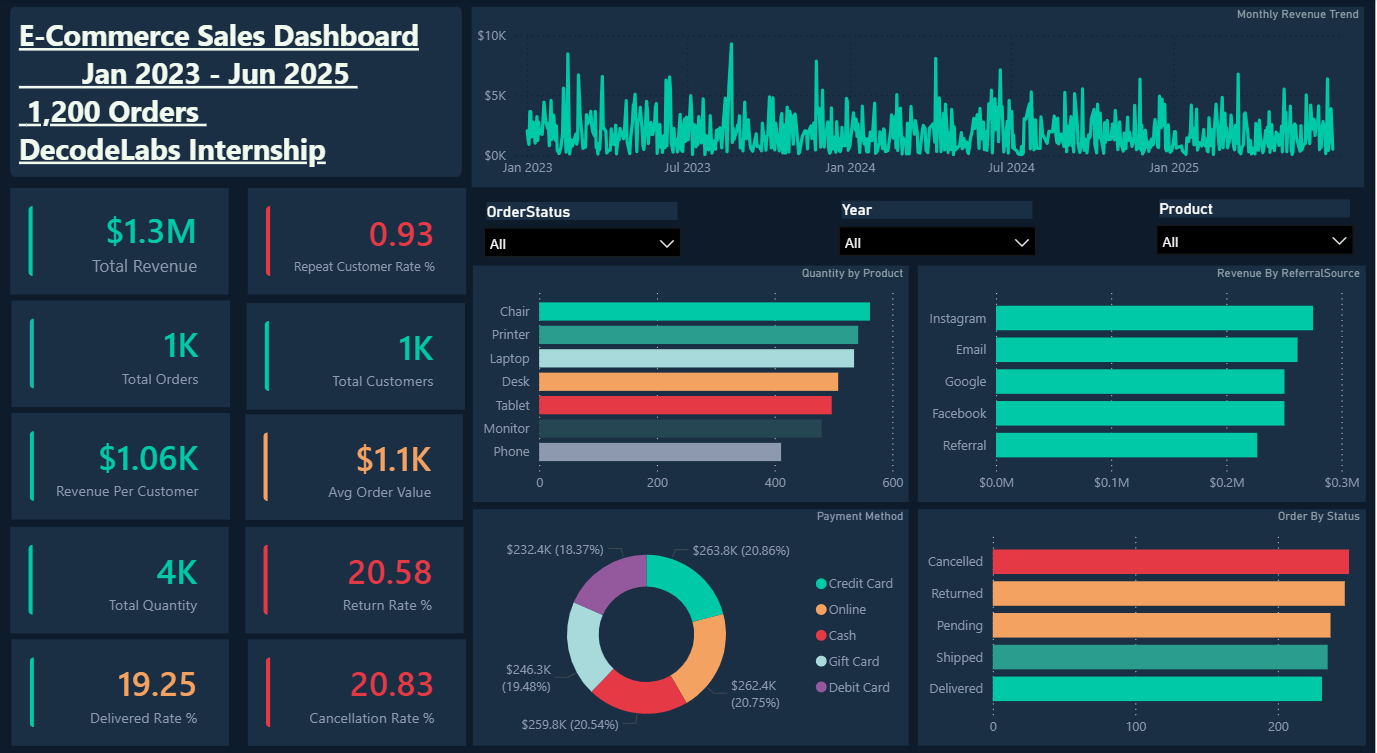

The page's visual inventory and layout, read from the dashboard file:
{"tool":"powerbi","page":{"name":"Dashboard","canvas":[1280,720],"ordinal":0},"visuals":[{"type":"cardVisual","fields":{"Data":["_Measure.Total Revenue"]},"box":[10.9,176.7,203.4,99.3],"z":0},{"type":"cardVisual","fields":{"Data":["_Measure.Total Orders"]},"box":[12.1,280.8,203.4,99.3],"z":1000},{"type":"cardVisual","fields":{"Data":["_Measure.Avg Order Value"]},"box":[228.8,387.4,202.2,98.1],"z":2000},{"type":"cardVisual","fields":{"Data":["_Measure.Total Customers"]},"box":[230,283.3,203.4,99.3],"z":3000},{"type":"cardVisual","fields":{"Data":["_Measure.Total Quantity"]},"box":[10.9,491.5,203.4,99.3],"z":4000},{"type":"barChart","title":" Order By Status","fields":{"Category":["DecodeLabs Internship Dataset(csv)For SQL.OrderStatus"],"Y":["_Measure.Total Orders"]},"box":[854.6,475.7,416.4,220.3],"z":5000},{"type":"clusteredBarChart","title":" Revenue By ReferralSource","fields":{"Y":["_Measure.Total Revenue"],"Category":["DecodeLabs Internship Dataset(csv)For SQL.ReferralSource"]},"box":[854.6,249.4,416.4,220.3],"z":6000},{"type":"lineChart","title":"Monthly Revenue Trend","fields":{"Y":["_Measure.Total Revenue"],"Category":["DecodeLabs Internship Dataset(csv)For SQL.Date.Variation.Date Hierarchy.Year","DecodeLabs Internship Dataset(csv)For SQL.Date.Variation.Date Hierarchy.Quarter","DecodeLabs Internship Dataset(csv)For SQL.Date.Variation.Date Hierarchy.Month","DecodeLabs Internship Dataset(csv)For SQL.Date.Variation.Date Hierarchy.Day"]},"box":[439.4,8.5,830.4,168.3],"z":7000},{"type":"donutChart","title":"Payment Method","fields":{"Category":["DecodeLabs Internship Dataset(csv)For SQL.PaymentMethod"],"Y":["_Measure.Total Revenue"]},"box":[440.6,475.7,405.5,220.3],"z":8000},{"type":"barChart","title":" Quantity by Product","fields":{"Category":["DecodeLabs Internship Dataset(csv)For SQL.Product"],"Y":["_Measure.Total Quantity"]},"box":[440.6,249.4,405.5,220.3],"z":9000},{"type":"slicer","fields":{"Values":["DecodeLabs Internship Dataset(csv)For SQL.Date.Variation.Date Hierarchy.Year"]},"box":[771.1,184,203.4,62.9],"z":10000},{"type":"slicer","fields":{"Values":["DecodeLabs Internship Dataset(csv)For SQL.Product"]},"box":[1066.4,182.8,203.4,62.9],"z":11000},{"type":"slicer","fields":{"Values":["DecodeLabs Internship Dataset(csv)For SQL.OrderStatus"]},"box":[440.6,185.2,203.4,62.9],"z":12000},{"type":"cardVisual","fields":{"Data":["_Measure.Cancellation Rate %"]},"box":[231.2,596.8,203.4,99.3],"z":13000},{"type":"cardVisual","fields":{"Data":["_Measure.Delivered Rate %"]},"box":[12.1,596.8,202.2,99.3],"z":14000},{"type":"cardVisual","fields":{"Data":["_Measure.Revenue Per Customer"]},"box":[12.1,386.1,203.4,99.3],"z":15000},{"type":"cardVisual","fields":{"Data":["_Measure.Repeat Customer Rate %"]},"box":[231.2,176.7,203.4,99.3],"z":16000},{"type":"cardVisual","fields":{"Data":["_Measure.Return Rate %"]},"box":[228.8,491.5,203.4,99.3],"z":17000},{"type":"textbox","box":[10.9,8.5,420,158.6],"z":18000}]}

Visuals, with their boxes in screenshot pixels (x1, y1, x2, y2), scaled from the page's 1280x720 canvas onto the 1377x753 screenshot:
cardVisual - _Measure.Total Revenue: (12,185,231,289)
cardVisual - _Measure.Total Orders: (13,294,232,398)
cardVisual - _Measure.Avg Order Value: (246,405,464,508)
cardVisual - _Measure.Total Customers: (247,296,466,400)
cardVisual - _Measure.Total Quantity: (12,514,231,618)
" Order By Status" barChart: (919,498,1367,728)
" Revenue By ReferralSource" clusteredBarChart: (919,261,1367,491)
"Monthly Revenue Trend" lineChart: (473,9,1366,185)
"Payment Method" donutChart: (474,498,910,728)
" Quantity by Product" barChart: (474,261,910,491)
slicer - DecodeLabs Internship Dataset(csv)For SQL.Date.Variation.Date Hierarchy.Year: (830,192,1048,258)
slicer - DecodeLabs Internship Dataset(csv)For SQL.Product: (1147,191,1366,257)
slicer - DecodeLabs Internship Dataset(csv)For SQL.OrderStatus: (474,194,693,259)
cardVisual - _Measure.Cancellation Rate %: (249,624,468,728)
cardVisual - _Measure.Delivered Rate %: (13,624,231,728)
cardVisual - _Measure.Revenue Per Customer: (13,404,232,508)
cardVisual - _Measure.Repeat Customer Rate %: (249,185,468,289)
cardVisual - _Measure.Return Rate %: (246,514,465,618)
textbox: (12,9,464,175)
